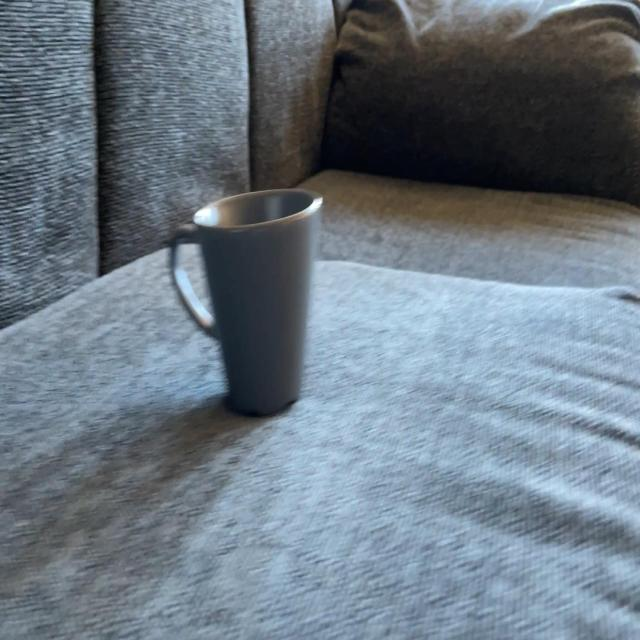cup: (168, 186, 326, 417)
